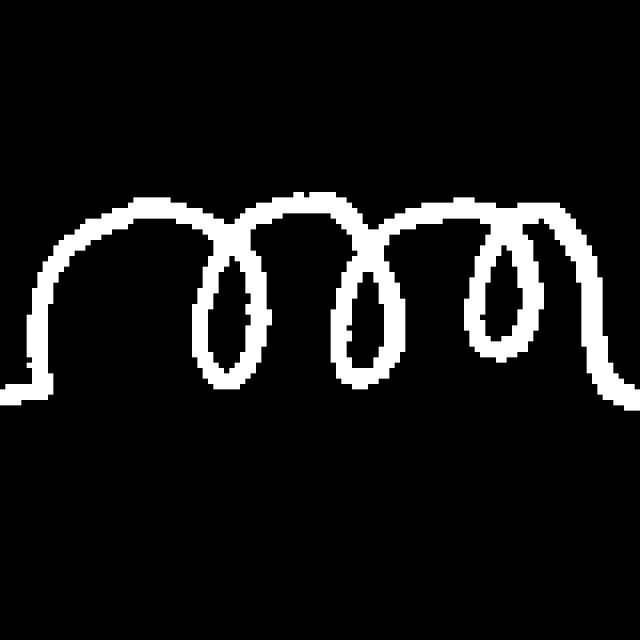inductor: (10, 170, 640, 432)
